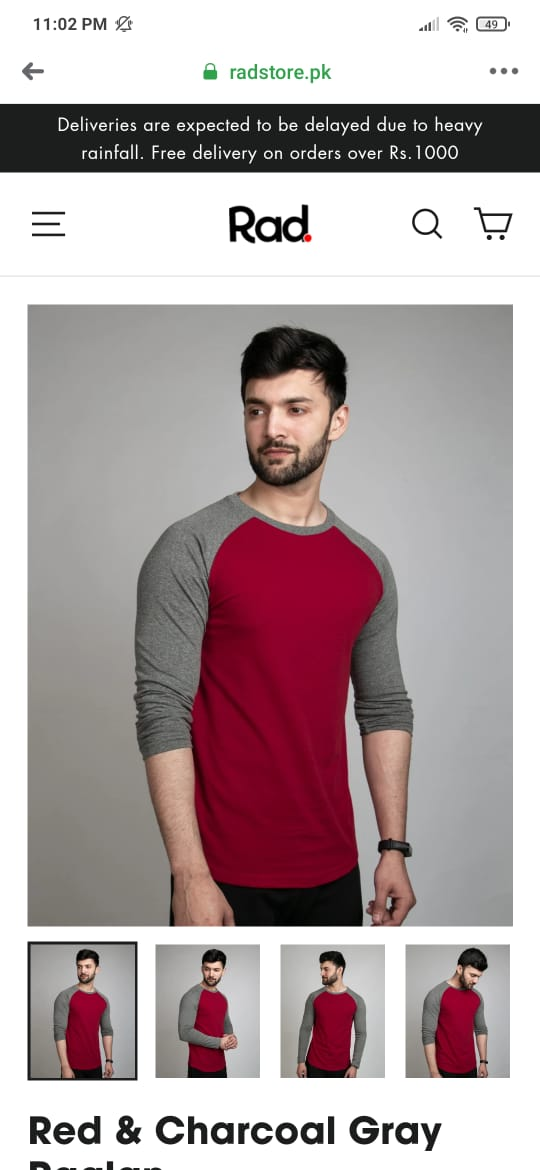NoMask: (242, 386, 320, 483)
